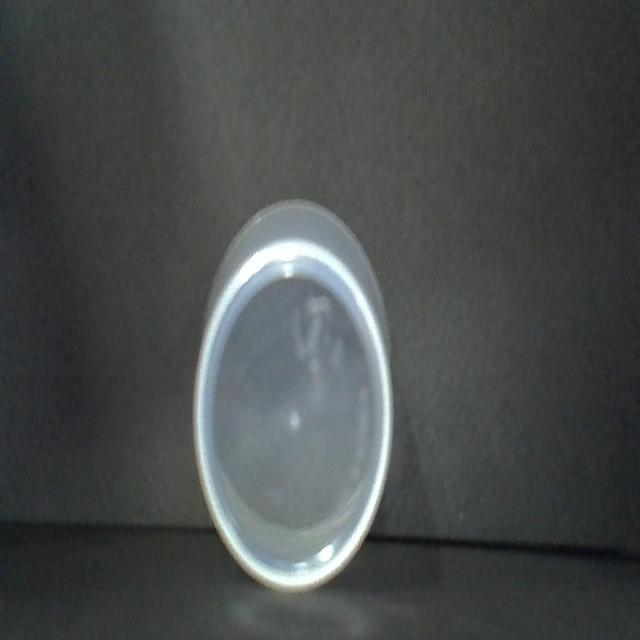cup: (191, 193, 401, 606)
